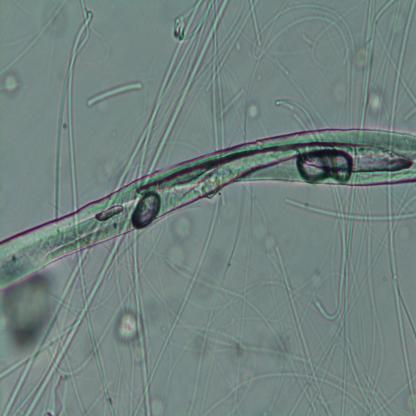Background material: (2, 280, 55, 338), (116, 311, 142, 346), (170, 213, 198, 242), (164, 239, 188, 271), (3, 74, 24, 98), (368, 89, 386, 116), (246, 102, 264, 120)
Glass filter fibre: (0, 126, 416, 294), (3, 237, 128, 414), (108, 1, 228, 184), (131, 198, 221, 414), (40, 1, 95, 216), (274, 245, 338, 414), (386, 184, 416, 409), (250, 5, 358, 61), (359, 2, 392, 129), (282, 198, 416, 228), (388, 0, 416, 132), (203, 5, 228, 147), (82, 74, 146, 111), (244, 2, 262, 48), (218, 88, 244, 119)
